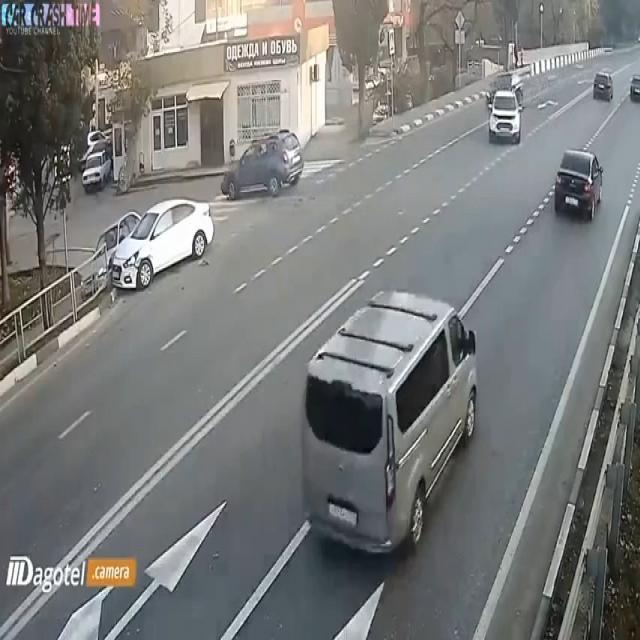Accident: (104, 193, 214, 303)
